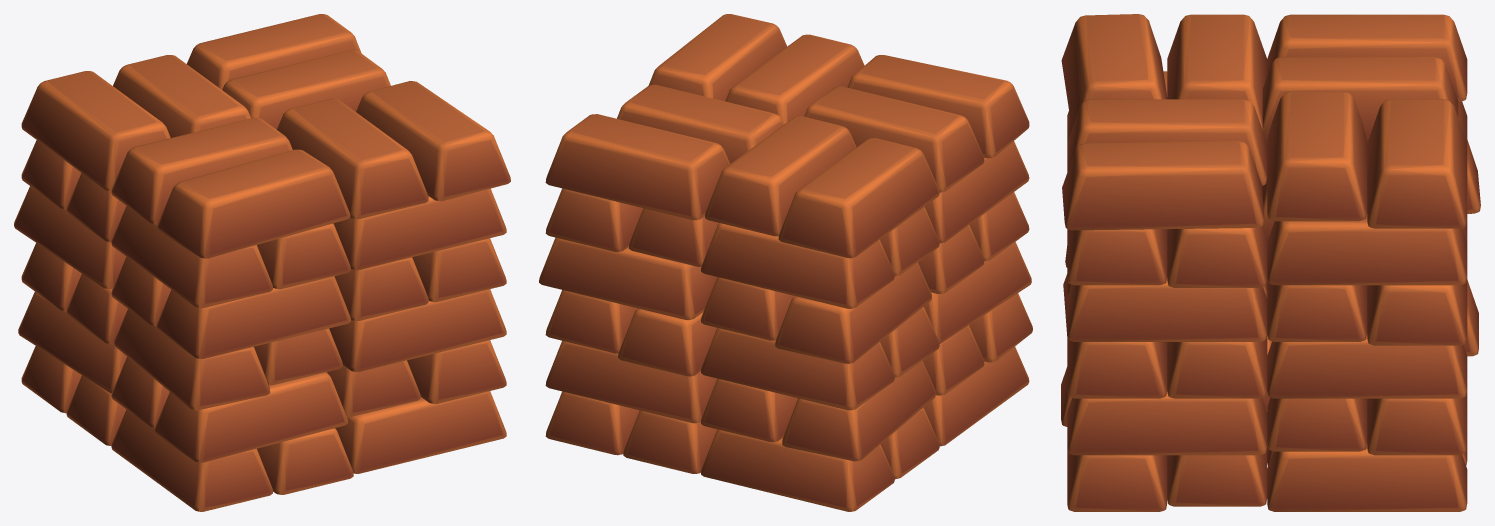
File: copper_bars_stack_large.glb
The picture shows the model from 3 angles, left to right: view 1: azimuth 30°, elevation 25°; view 2: azimuth 150°, elevation 25°; view 3: azimuth 270°, elevation 25°; orthographic projection. The views are drawn at different scales.
Visible parts, largest first — view 1: Copper_Bars_Stack_Large; view 2: Copper_Bars_Stack_Large; view 3: Copper_Bars_Stack_Large.
Boxes of the visible parts, x1,y1,x2,y2 form: Copper_Bars_Stack_Large: (14,14,510,511); Copper_Bars_Stack_Large: (539,14,1032,511); Copper_Bars_Stack_Large: (1061,14,1480,511).
Size of the model in its own units: 0.9946 by 0.9 by 1.01.
Materials: 1 (1 with a texture image).
